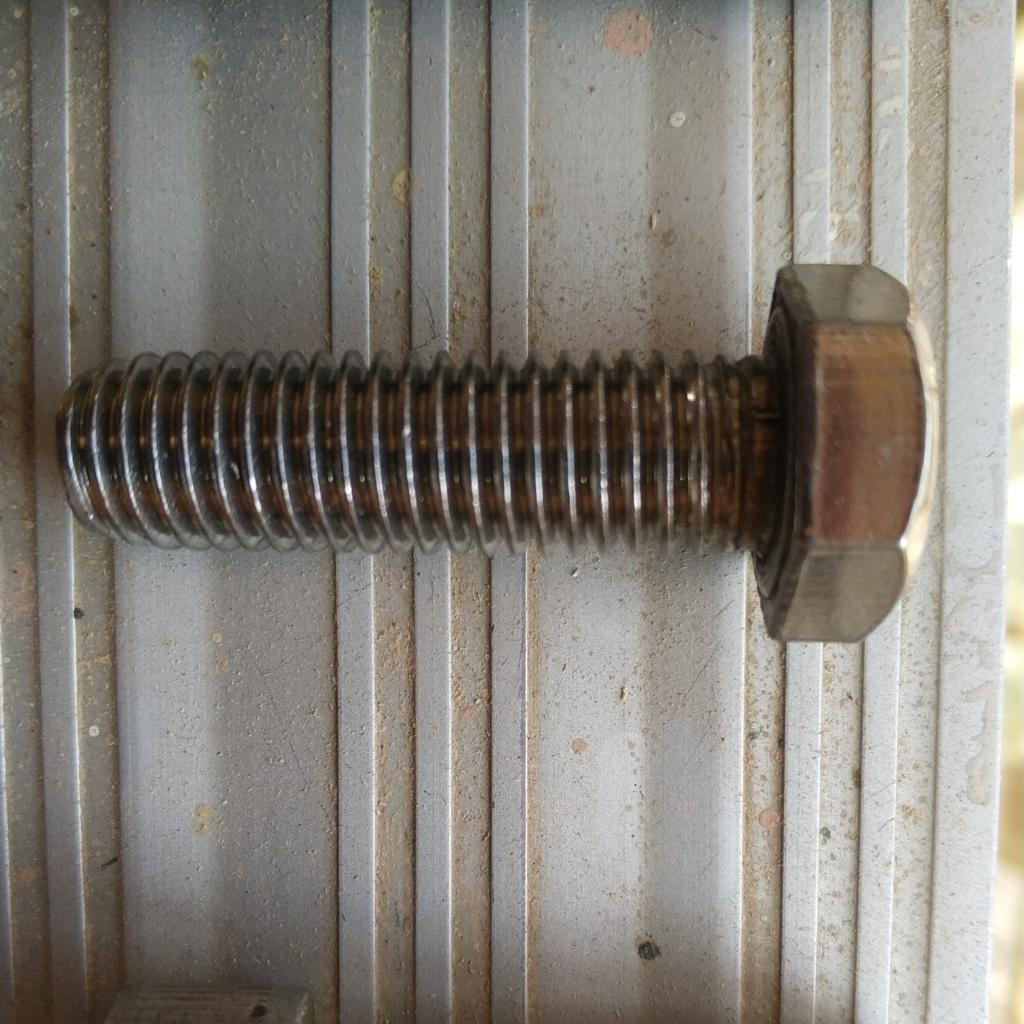screwtype1silver: (66, 990, 352, 1023)
screwtype2silver: (56, 254, 946, 681)
